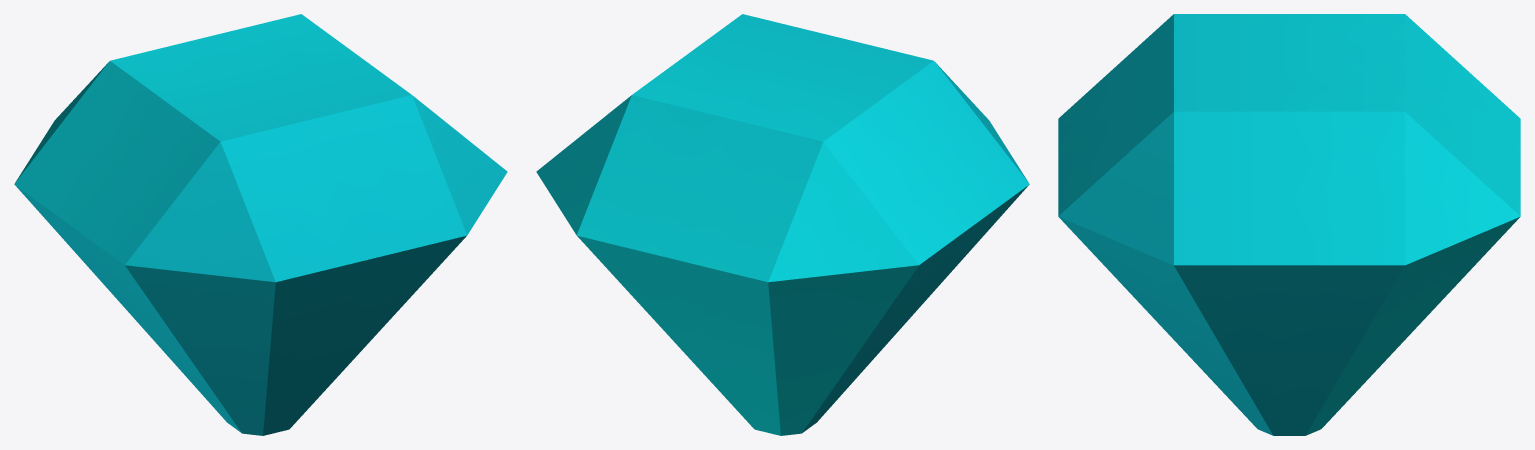
The model's file is Jewel.fbx.
The picture shows the model from 3 angles, left to right: view 1: azimuth 30°, elevation 25°; view 2: azimuth 150°, elevation 25°; view 3: azimuth 270°, elevation 25°; orthographic projection. The views are drawn at different scales.
Parts seen in each view (by area): view 1: pCube12; view 2: pCube12; view 3: pCube12.
Boxes of the visible parts, x1,y1,x2,y2 form: pCube12: (14, 14, 507, 435); pCube12: (536, 14, 1029, 435); pCube12: (1058, 14, 1520, 435).
Size of the model in its own units: 6.09 by 5.23 by 6.09.
